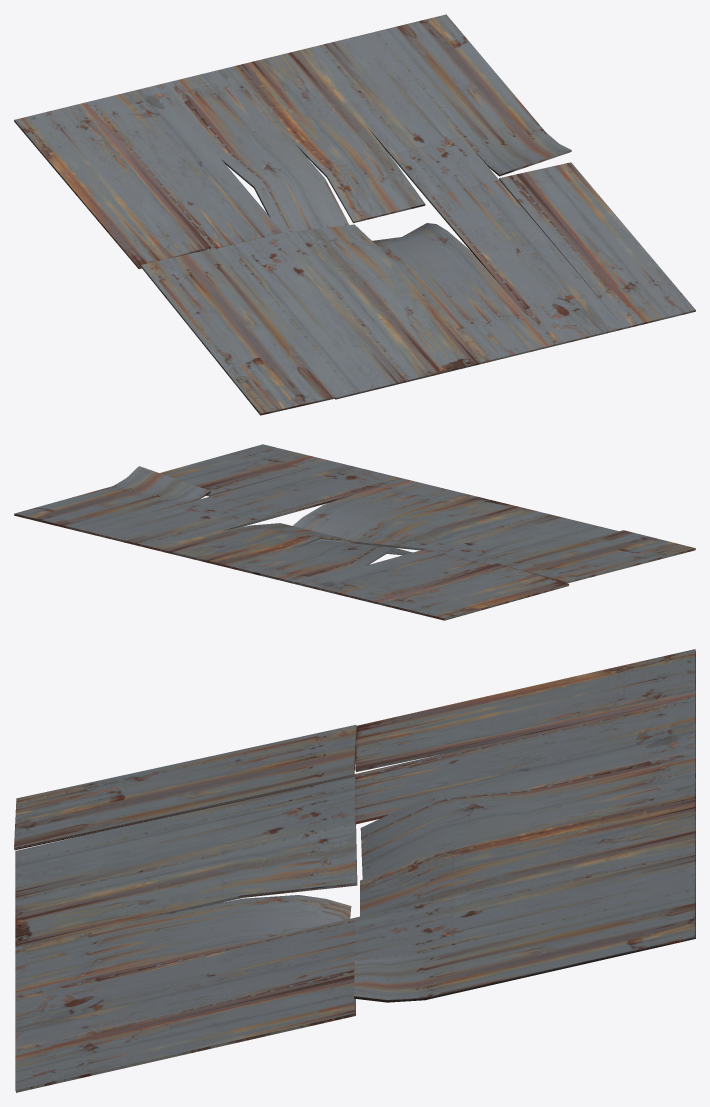
File: Roof01d.fbx
3 views of the same model, one above another, from view 1: azimuth 30°, elevation 25°; view 2: azimuth 150°, elevation 25°; view 3: azimuth 270°, elevation 25° (orthographic). The views are drawn at different scales.
Visible parts, largest first — view 1: Roof01d; view 2: Roof01d; view 3: Roof01d.
Boxes of the visible parts, box(x1,y1,x2,y2) form: Roof01d: box(14, 14, 695, 415); Roof01d: box(14, 444, 695, 620); Roof01d: box(14, 649, 695, 1092).
Size of the model in its own units: 604 by 152 by 602.
